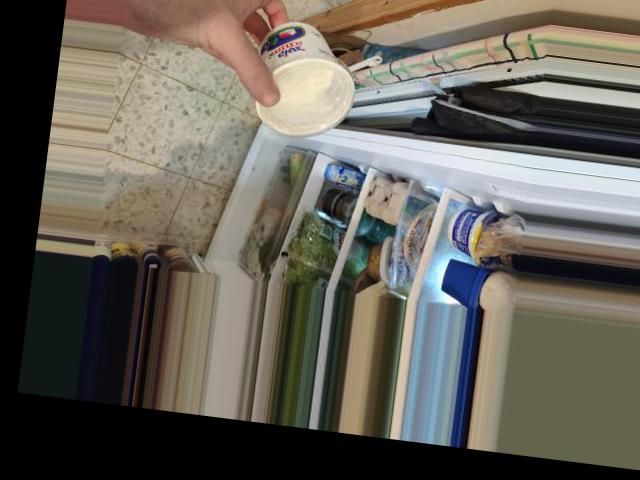cotage: (240, 11, 364, 143)
